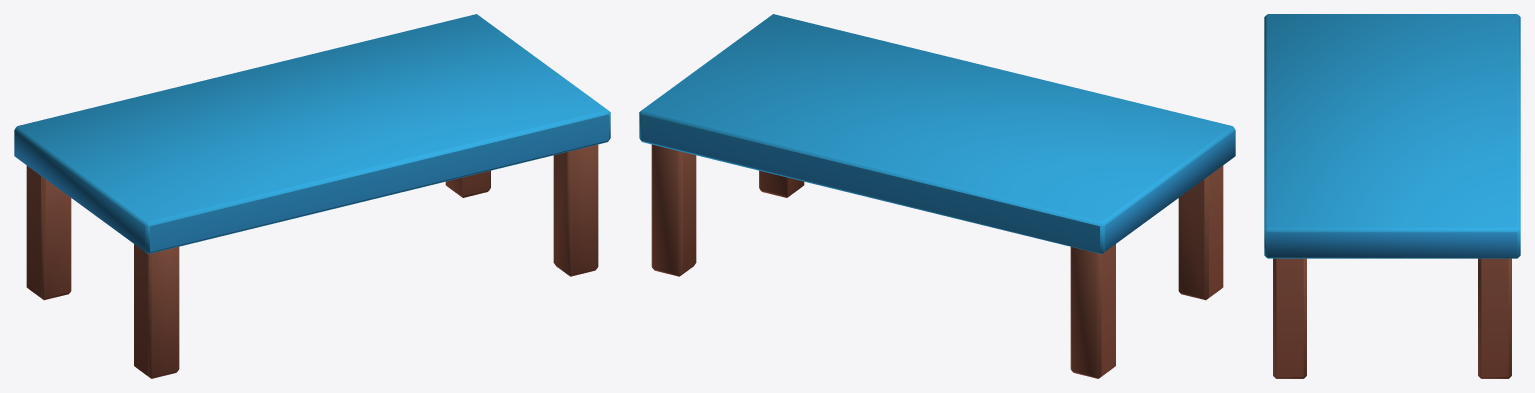
The model's file is table-medium-long.glb.
3 views of the same model, side by side, from view 1: azimuth 30°, elevation 25°; view 2: azimuth 150°, elevation 25°; view 3: azimuth 270°, elevation 25° (orthographic). The views are drawn at different scales.
Parts seen in each view (by area): view 1: table_medium_long; view 2: table_medium_long; view 3: table_medium_long.
Part boxes in pixels (<box>): table_medium_long: <box>14,14,610,378</box>; table_medium_long: <box>639,14,1235,378</box>; table_medium_long: <box>1264,14,1520,378</box>.
Bounding box in the file's own units: 3 × 0.9999 × 1.5.
1 material, 1 textured.
